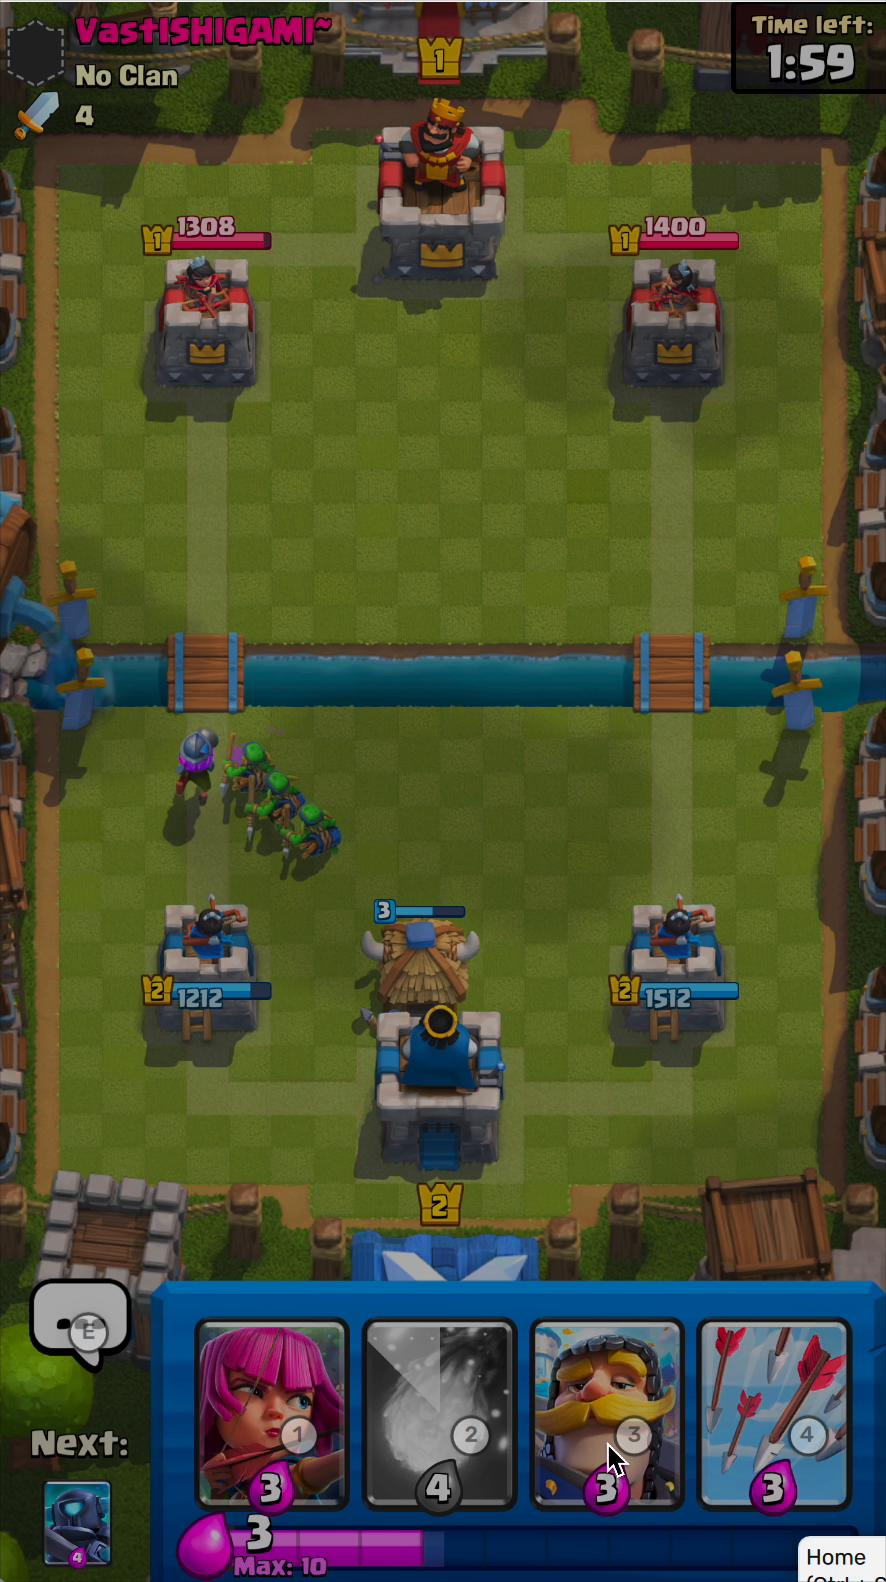gobelin_lances: (248, 767, 309, 836), (278, 801, 340, 864), (225, 732, 274, 807)
mousquetaire: (173, 732, 223, 803)
